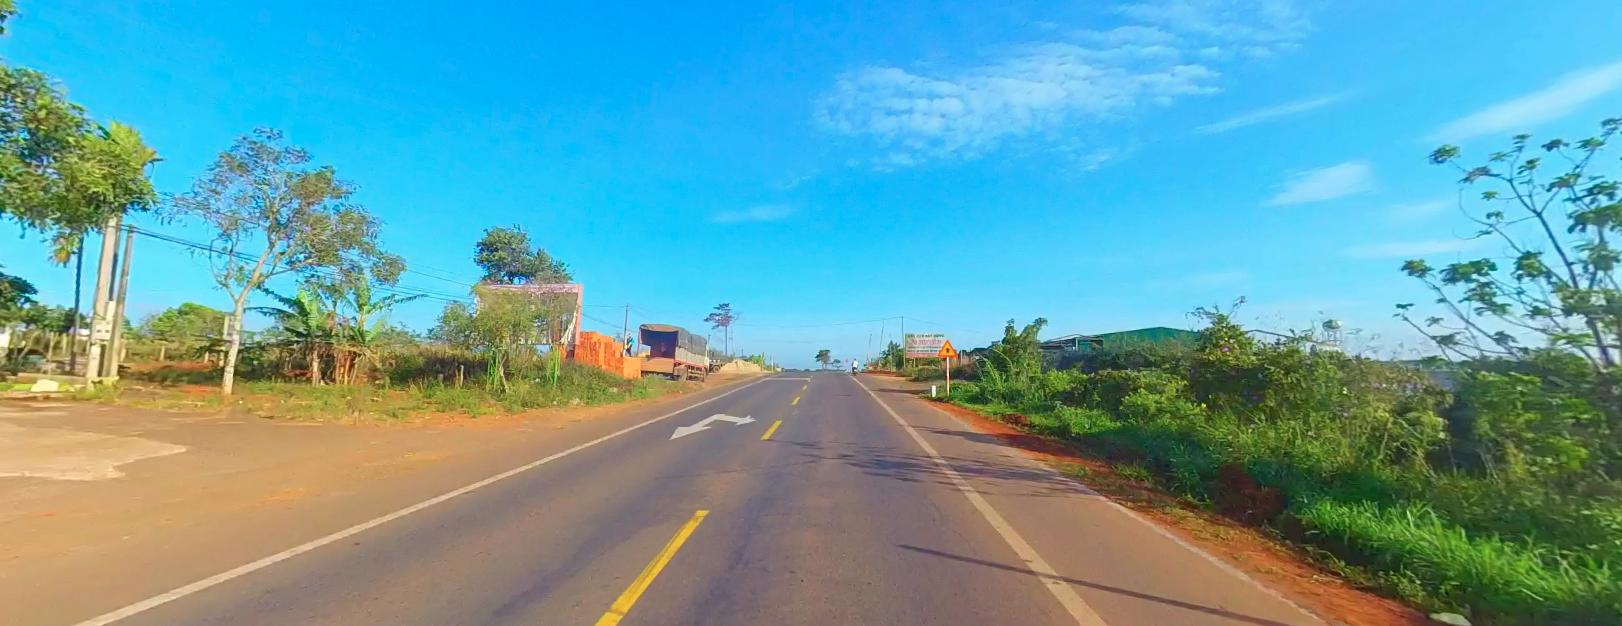Nguy hiem: (936, 338, 958, 356)
